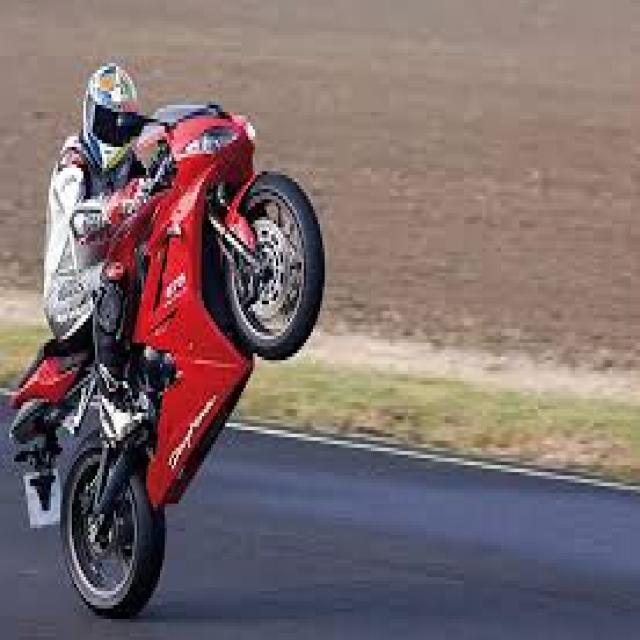Wheeling: (60, 54, 310, 526)
